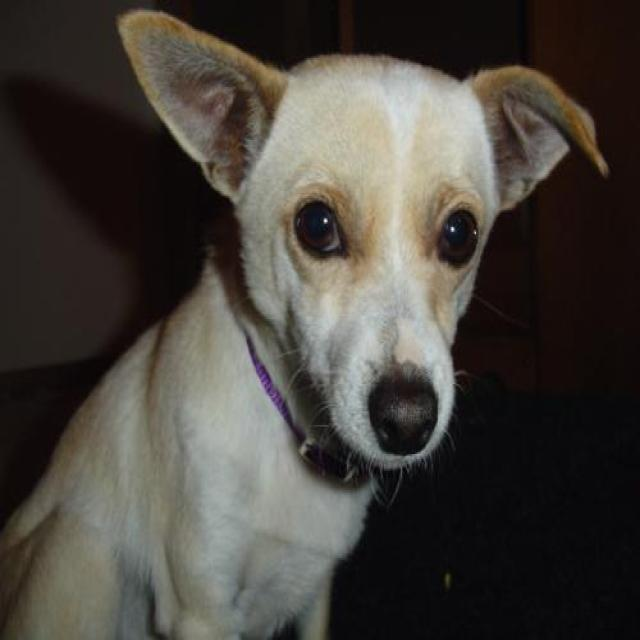dogs: (1, 9, 610, 640)
